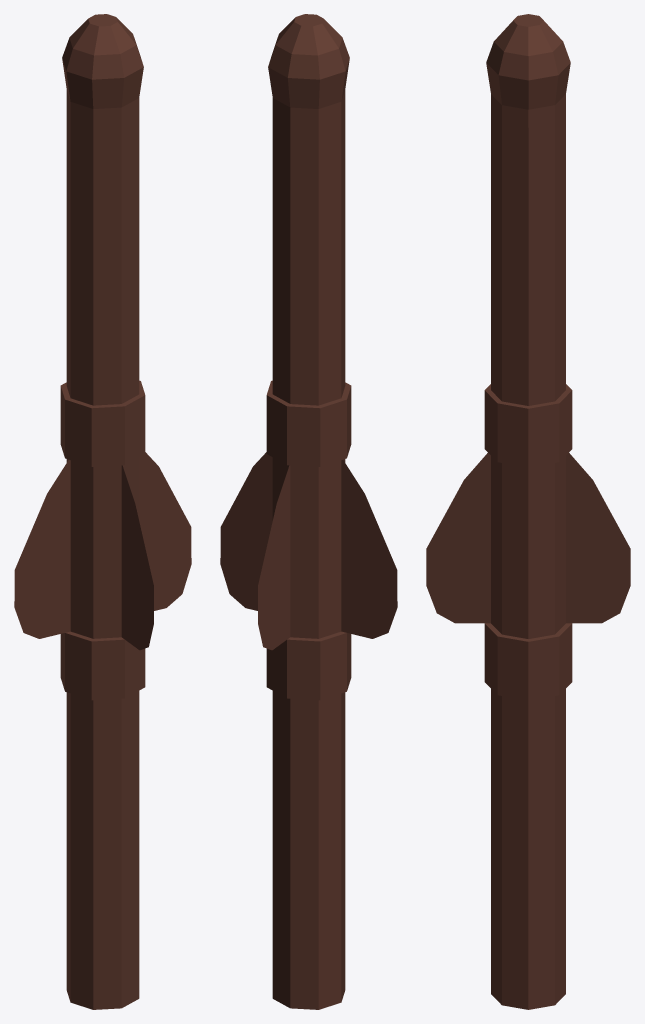
The model's file is janggunjeon.glb.
3 views of the same model, side by side, from view 1: azimuth 30°, elevation 25°; view 2: azimuth 150°, elevation 25°; view 3: azimuth 270°, elevation 25° (orthographic).
Parts seen in each view (by area): view 1: janggunjeon; view 2: janggunjeon; view 3: janggunjeon.
Part boxes in pixels (box(x1,y1,x2,y2)): janggunjeon: box(14, 14, 191, 1009); janggunjeon: box(220, 14, 397, 1009); janggunjeon: box(426, 14, 630, 1009).
Size of the model in its own units: 0.4043 by 2.13 by 0.4043.
